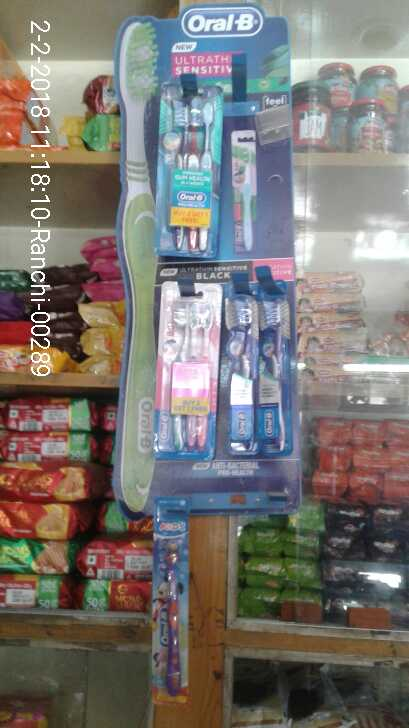oralb: (156, 283, 222, 464), (160, 86, 228, 251), (228, 292, 284, 464), (152, 504, 191, 701)
